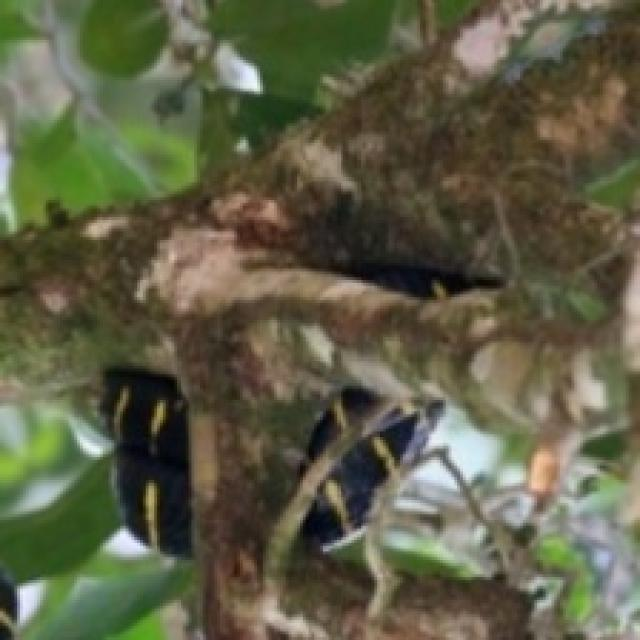mangrove cat snake: (300, 397, 443, 546), (100, 369, 189, 551)
